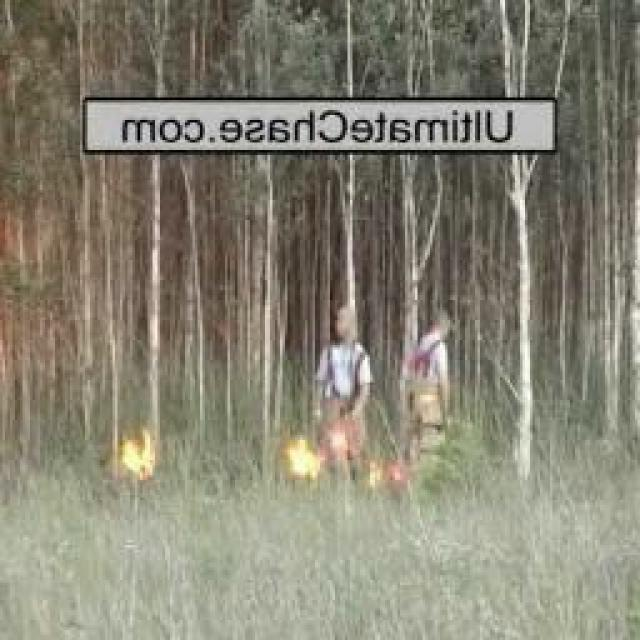Fire: (117, 429, 155, 488), (281, 436, 321, 481), (367, 455, 402, 491), (328, 428, 350, 455)
